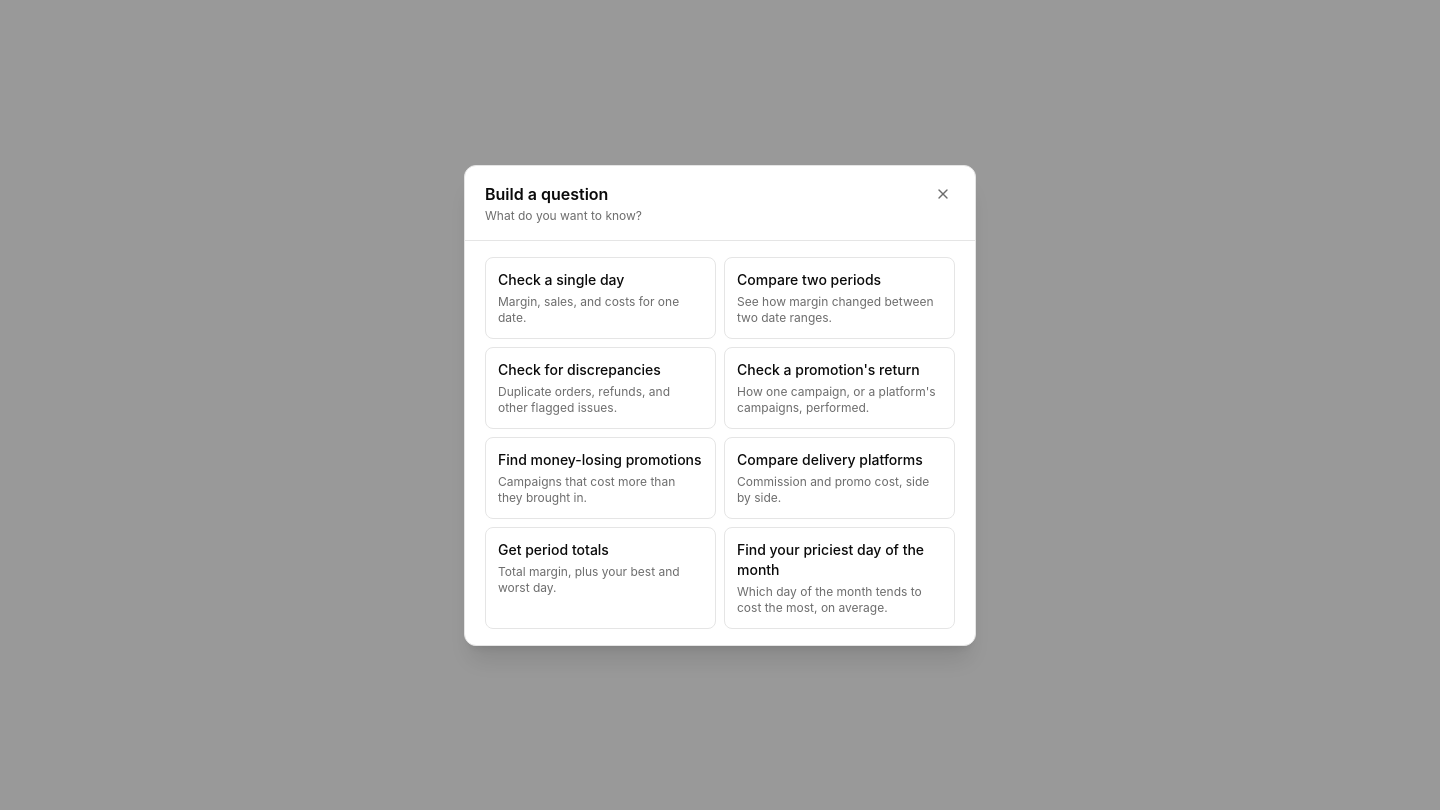
Scenario: QuestionComposer › flags a backwards date range instead of silently accepting it
Step 1. Click the text "Get period totals" → (553,550), box [498,540,609,560]
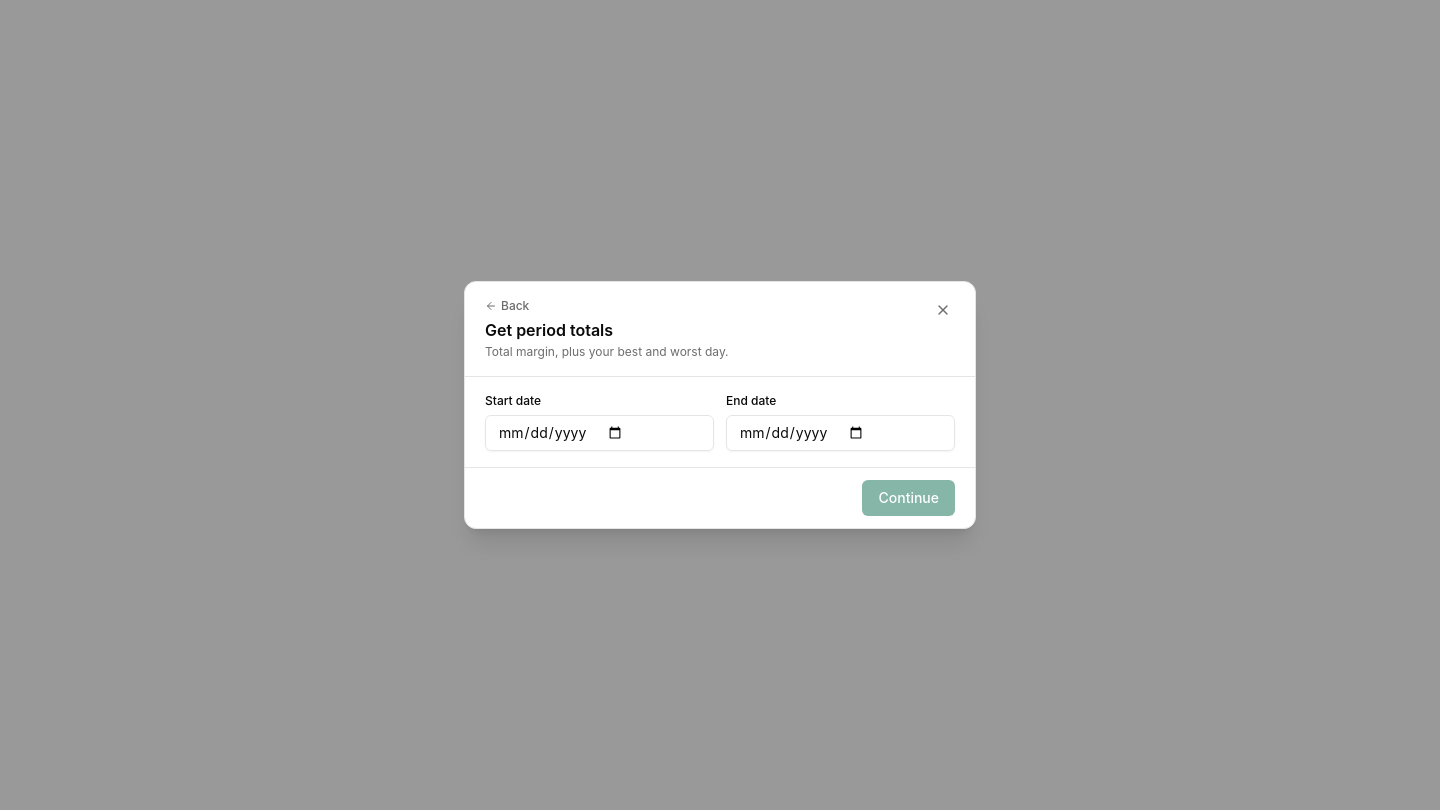
Step 2. Type "2026-08-14" into the date field labelled "Start date" → (600,433), box [485,415,714,451]
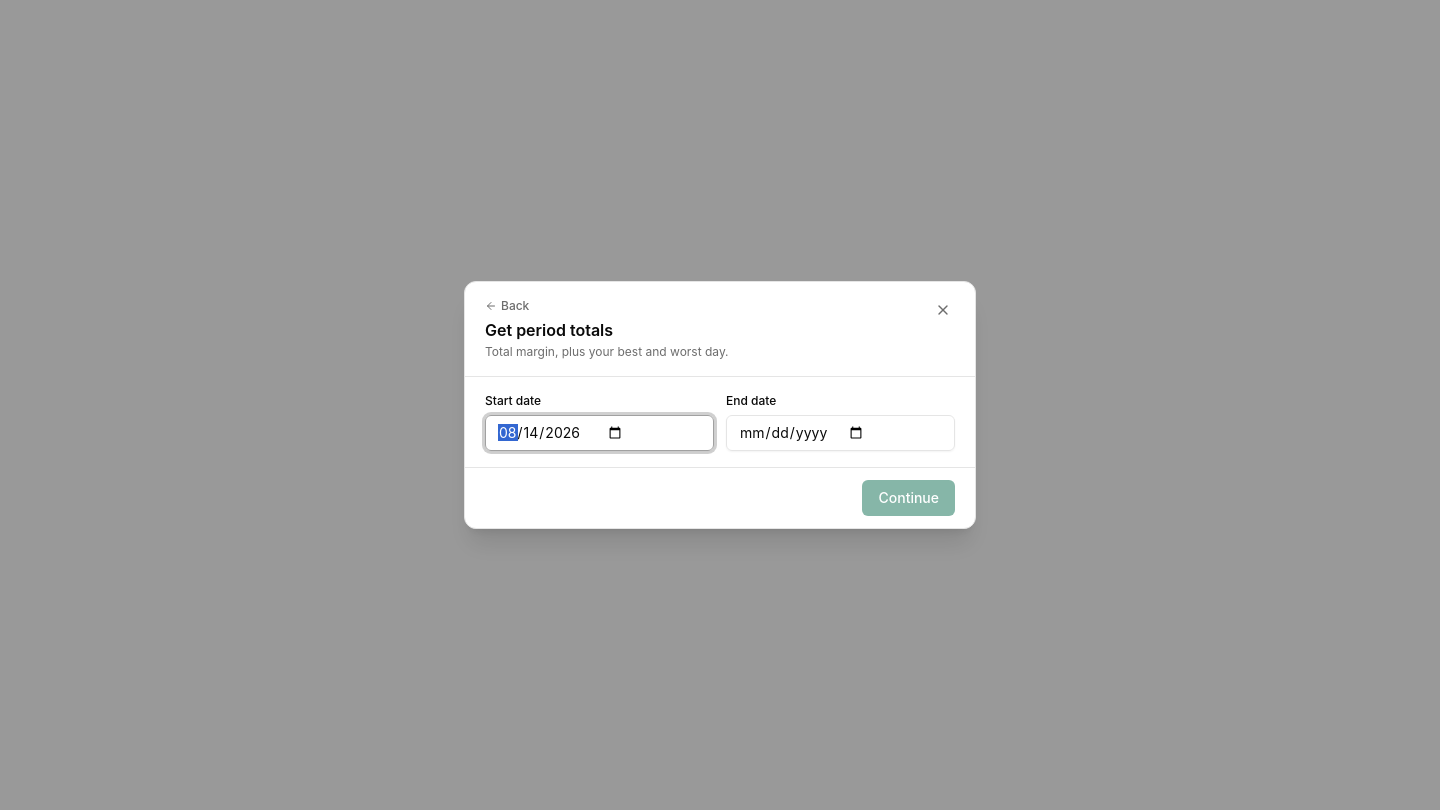
Step 3. Type "2026-08-01" into the date field labelled "End date" → (840,433), box [726,415,955,451]
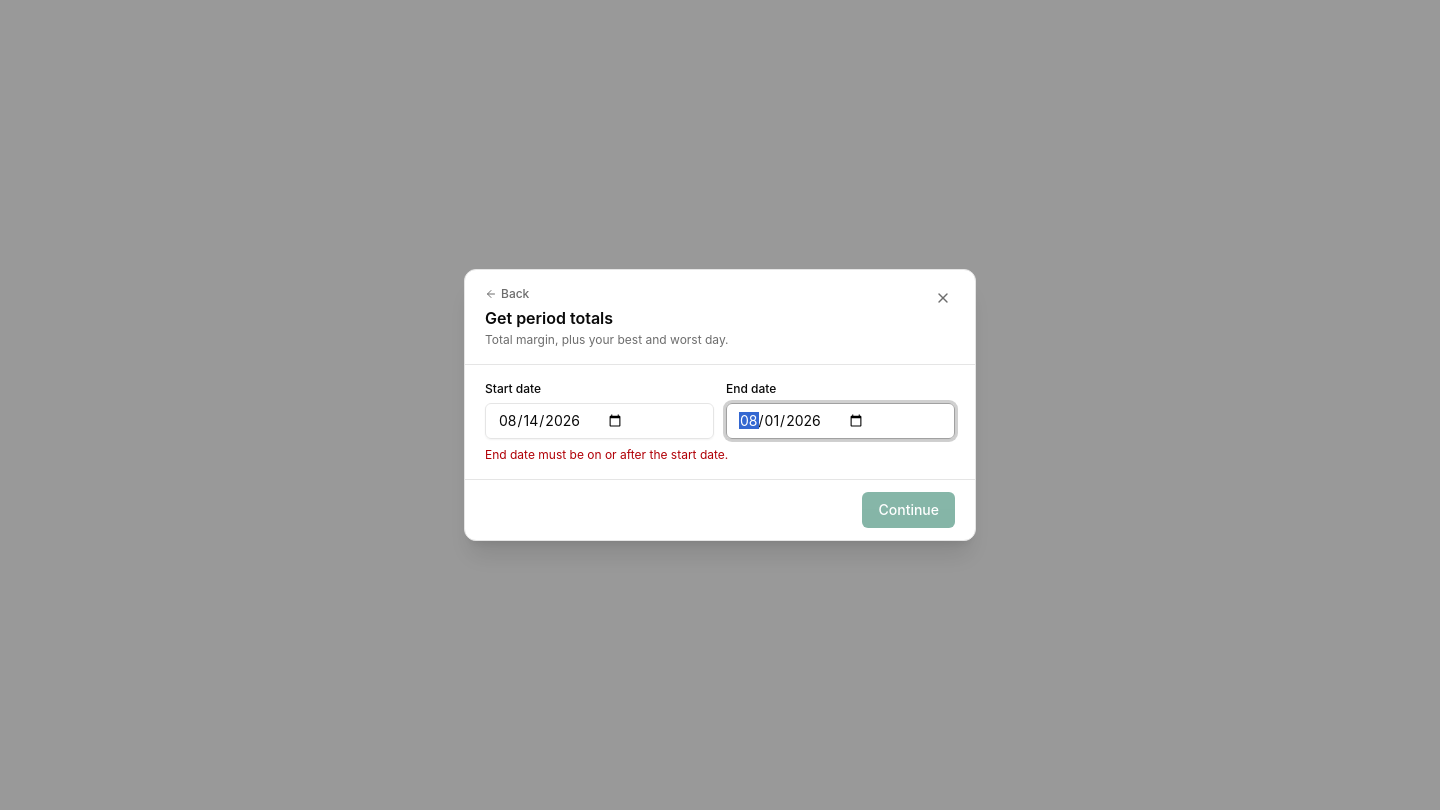
Now the button "Continue" is disabled, box [862,492,955,528]
Now the text "End date must be on or after the start date." is shown, box [485,447,728,462]
